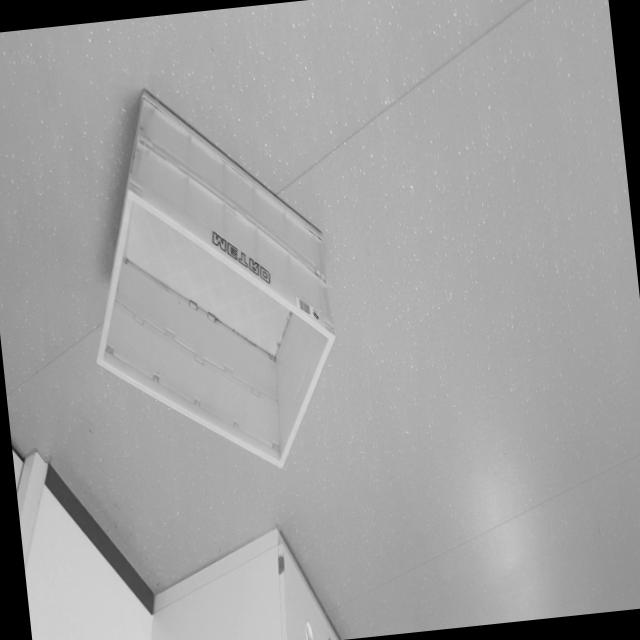box: (59, 71, 352, 492)
